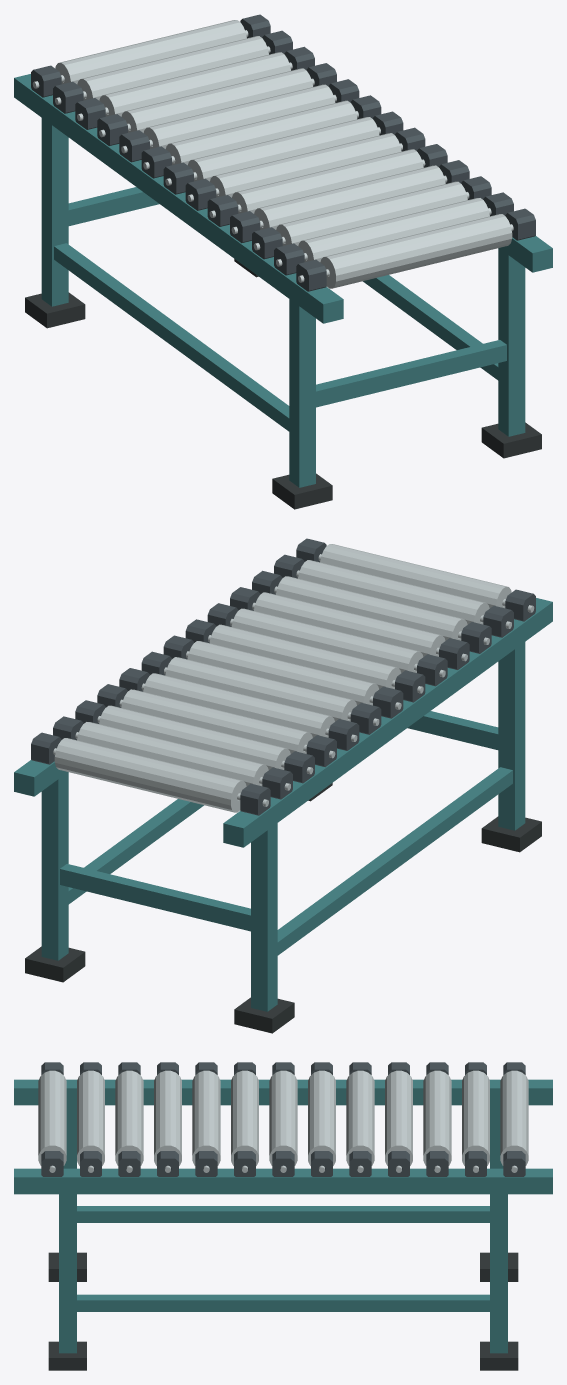
The picture shows the model from 3 angles, top to bottom: view 1: azimuth 30°, elevation 25°; view 2: azimuth 150°, elevation 25°; view 3: azimuth 270°, elevation 25°; orthographic projection. The views are drawn at different scales.
Visible parts, largest first — view 1: SideBeam_L, Roller_00, LowerTie_L, Leg_L_Front, Leg_R_Front, Leg_L_Rear, CrossStretcher_Front, Roller_02, Roller_05, Roller_07, Roller_09, Roller_03 (+27 smaller); view 2: SideBeam_L, Roller_12, LowerTie_L, Leg_L_Rear, Leg_R_Rear, Leg_L_Front, CrossStretcher_Rear, Roller_03, Roller_05, Roller_07, Roller_10, Roller_06 (+27 smaller); view 3: SideBeam_R, LowerTie_R, LowerTie_L, SideBeam_L, Leg_R_Front, Leg_R_Rear, Roller_00, Roller_02, Roller_04, Roller_06, Roller_08, Roller_10 (+26 smaller).
Part boxes in pixels (x1,y1,x2,y2): SideBeam_L: (14, 74, 343, 323); Roller_00: (320, 214, 512, 288); LowerTie_L: (54, 243, 289, 431); Leg_L_Front: (289, 299, 315, 487); Leg_R_Front: (498, 248, 525, 436); Leg_L_Rear: (41, 118, 68, 306); CrossStretcher_Front: (316, 340, 506, 407); Roller_02: (276, 181, 467, 245); Roller_05: (210, 133, 401, 197); Roller_07: (165, 100, 357, 165); Roller_09: (121, 68, 313, 132); Roller_03: (254, 165, 445, 229); SideBeam_L: (223, 598, 552, 847); Roller_12: (54, 738, 246, 812); LowerTie_L: (277, 767, 512, 955); Leg_L_Rear: (251, 823, 277, 1011); Leg_R_Rear: (41, 772, 68, 960); Leg_L_Front: (498, 642, 525, 830); CrossStretcher_Rear: (60, 864, 250, 931); Roller_03: (253, 592, 445, 656); Roller_05: (209, 624, 401, 689); Roller_07: (165, 657, 356, 721); Roller_10: (99, 705, 290, 769); Roller_06: (187, 641, 378, 705); SideBeam_R: (14, 1168, 552, 1194); LowerTie_R: (77, 1294, 489, 1311); LowerTie_L: (77, 1206, 489, 1222); SideBeam_L: (14, 1079, 552, 1105); Leg_R_Front: (59, 1194, 76, 1353); Leg_R_Rear: (490, 1194, 507, 1353); Roller_00: (38, 1070, 66, 1165); Roller_02: (115, 1070, 143, 1165); Roller_04: (192, 1070, 220, 1165); Roller_06: (269, 1070, 297, 1165); Roller_08: (346, 1070, 374, 1165); Roller_10: (423, 1070, 451, 1165).
Size of the model in its own units: 0.97 by 0.903 by 2.1.
